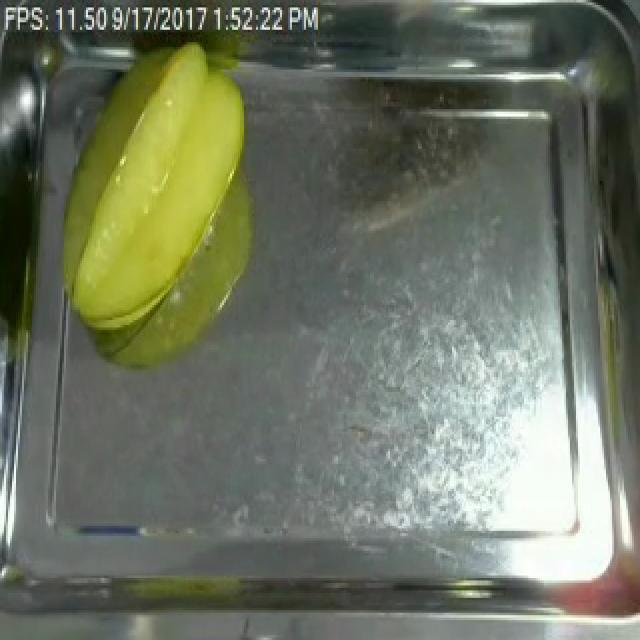fruit: (60, 30, 260, 350)
